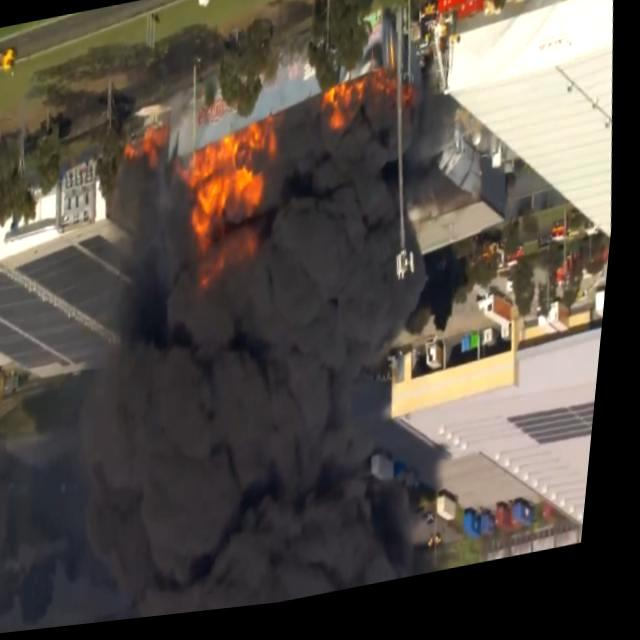fire: (174, 126, 294, 294), (322, 76, 414, 144), (132, 102, 176, 178)
